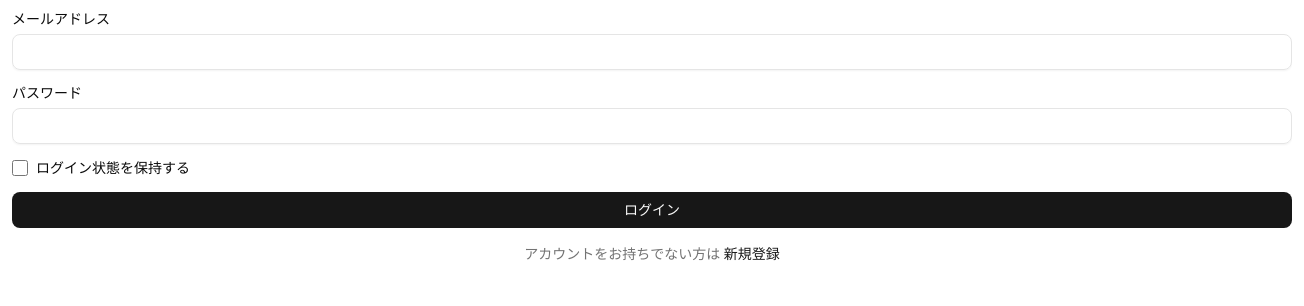
Test: LoginForm › shows a validation error for an invalid email format
The image size is (1304, 306).
Type "not-an-email" into the field labelled "メールアドレス". click: {"x": 652, "y": 52}
box: [12, 34, 1292, 70]
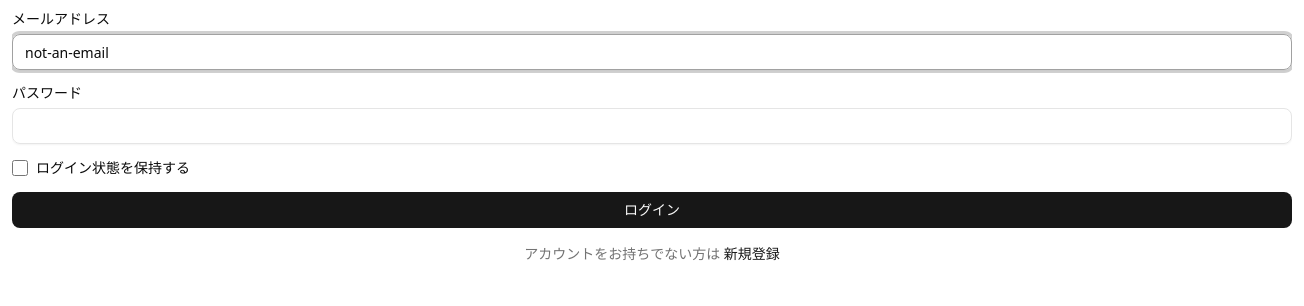
Type "password123" into the password field labelled "パスワード". click: {"x": 652, "y": 126}
box: [12, 108, 1292, 144]
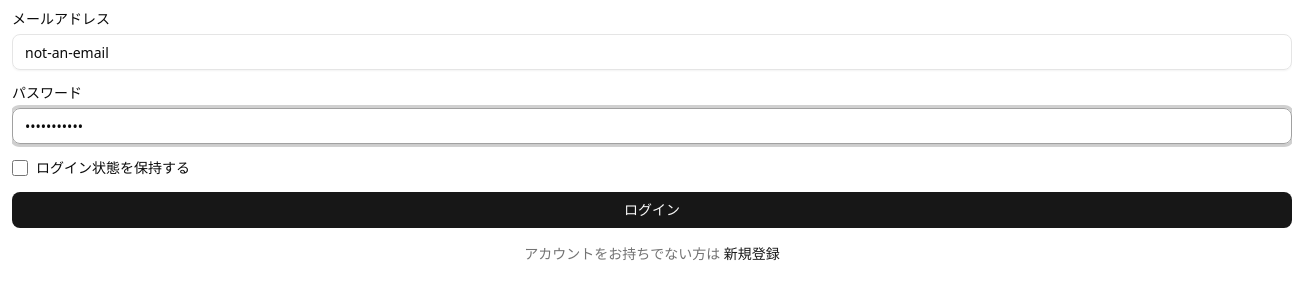
Click the button "ログイン". click: {"x": 652, "y": 210}
box: [12, 192, 1292, 228]
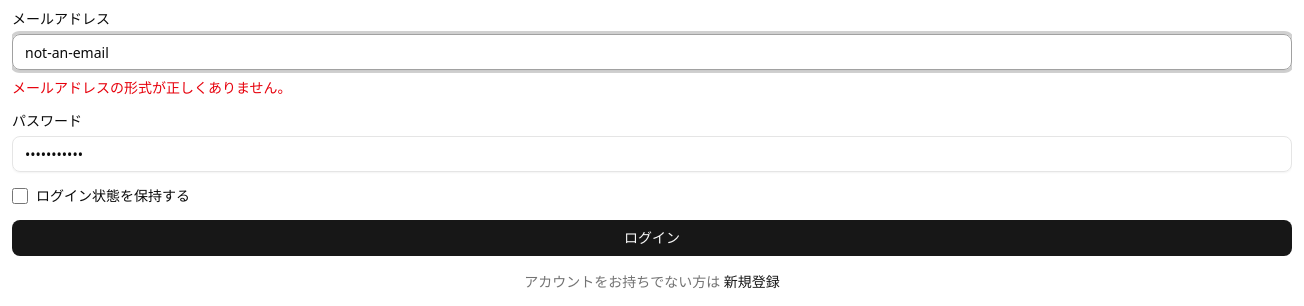
expect the text "メールアドレスの形式が正しくありません。" is shown: met, box [12, 78, 292, 97]
